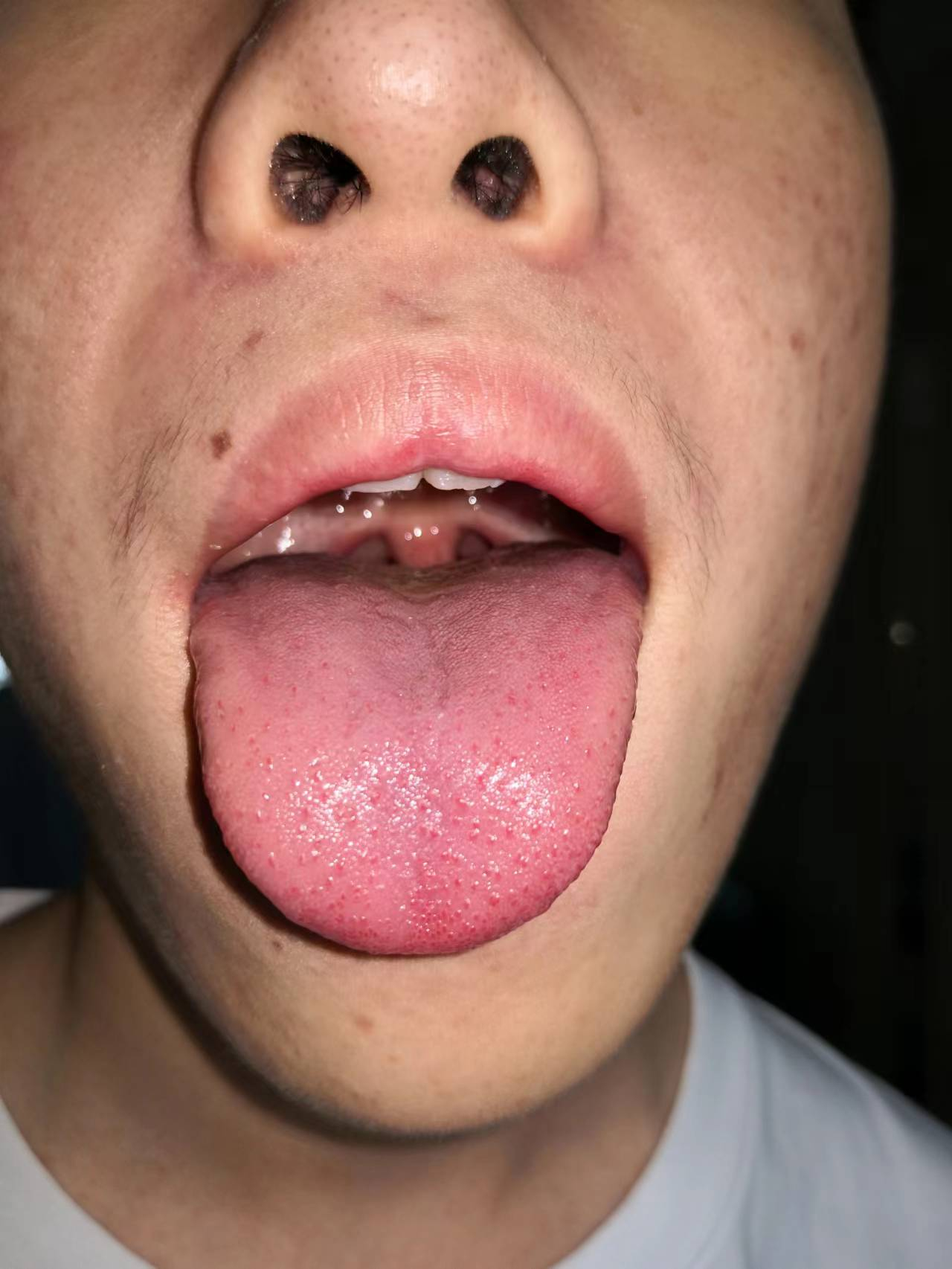hongdianshe: (426, 825, 443, 840), (469, 817, 482, 829), (318, 658, 329, 671), (571, 780, 581, 793), (265, 754, 274, 768)
hongshe: (187, 540, 648, 955)
